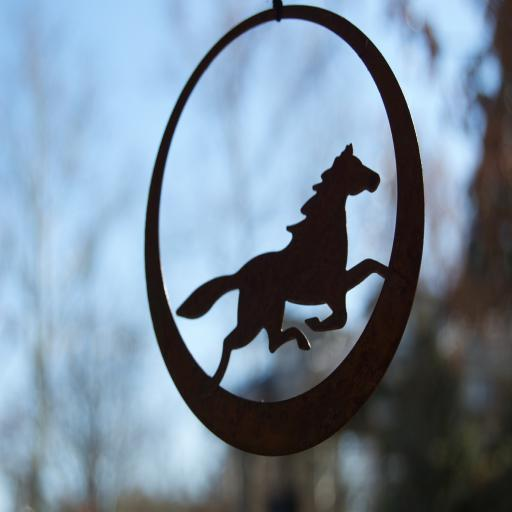horse: (176, 140, 388, 388)
